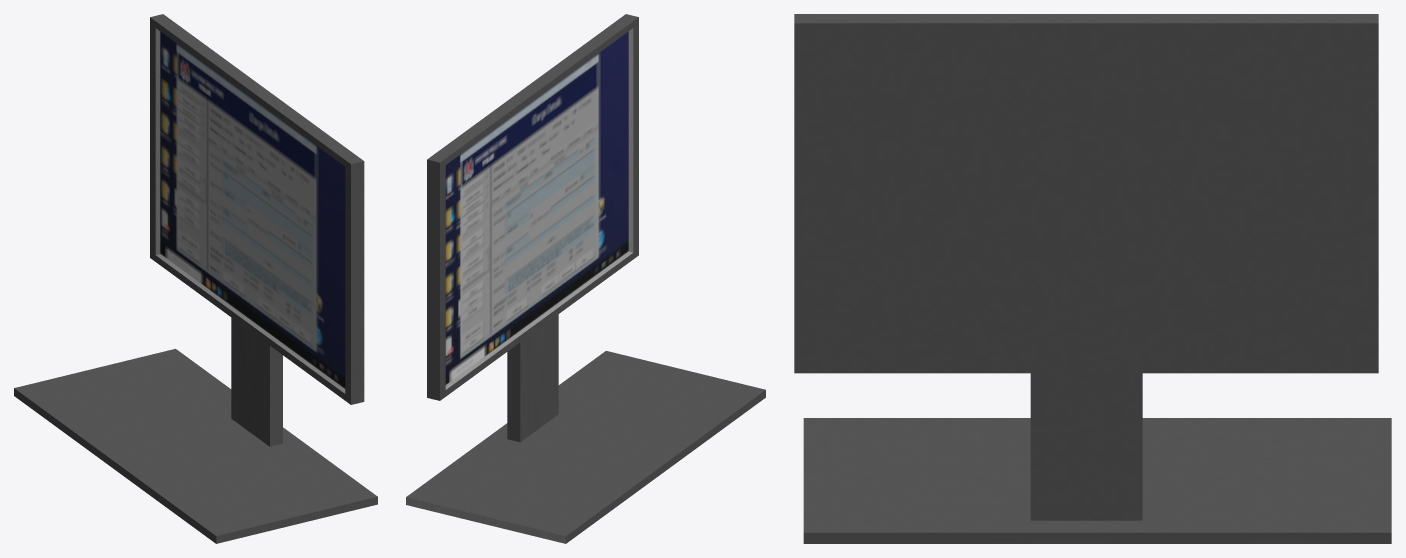
Rendered from Office PC.fbx.
3 views of the same model, side by side, from view 1: azimuth 30°, elevation 25°; view 2: azimuth 150°, elevation 25°; view 3: azimuth 270°, elevation 25° (orthographic). The views are drawn at different scales.
Parts seen in each view (by area): view 1: pCube298; view 2: pCube298; view 3: pCube298.
Boxes of the visible parts, left/top/right/bottom form: pCube298: left=14, top=14, right=377, bottom=543; pCube298: left=406, top=14, right=765, bottom=543; pCube298: left=794, top=14, right=1391, bottom=543.
Size of the model in its own units: 0.3077 by 0.6367 by 0.6772.
Materials: 1 (1 with a texture image).
